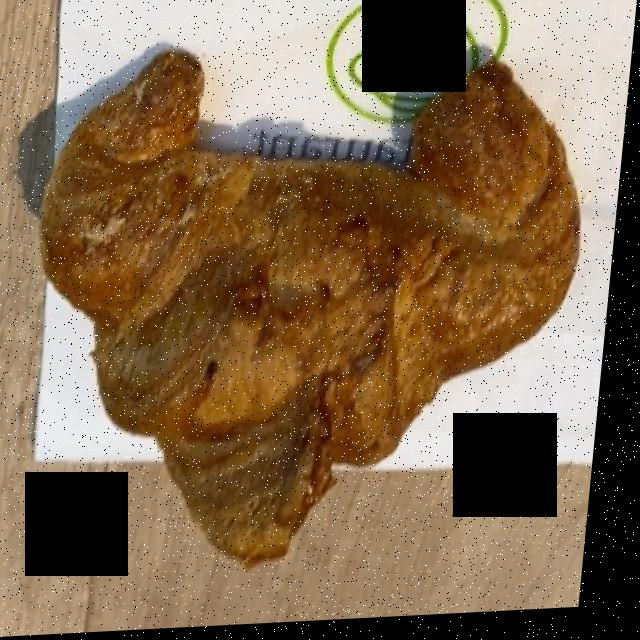croissant: (57, 68, 572, 554)
